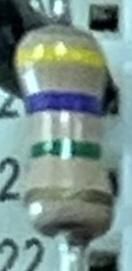Blue: (24, 86, 104, 121)
Green: (28, 138, 105, 162)
Side-Silver: (23, 186, 115, 210)
Yellow: (16, 41, 110, 75)
